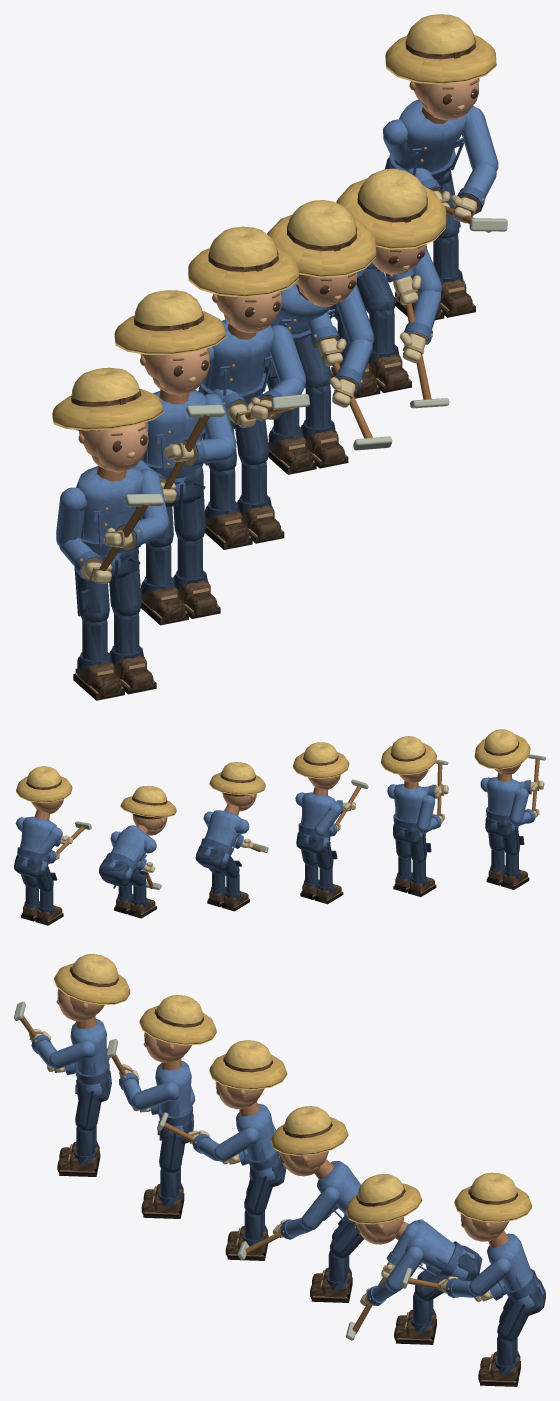
The model's file is ba-hoe-tq-after.glb.
The picture shows the model from 3 angles, top to bottom: view 1: azimuth 30°, elevation 25°; view 2: azimuth 150°, elevation 25°; view 3: azimuth 270°, elevation 25°; orthographic projection. The views are drawn at different scales.
Visible parts, largest first — view 1: strawHat (×6), denimJacketTorso (×5), leftShin (×6), head (×6), rightShin (×4), leftThigh (×5), leftUpperArm (×5), leftLowerArm (×4), rightUpperArm (×2), rightThigh; view 2: strawHat (×6), denimJacketTorso (×6), rightShin (×6), leftShin (×6), trouserHips (×6), rightUpperArm (×5), rightThigh (×5), head (×4); view 3: strawHat (×6), denimJacketTorso (×6), leftShin (×6), leftUpperArm (×6), head (×6), leftThigh (×5), trouserHips.
Part boxes in pixels (box(x1,y1,x2,y2)): strawHat (×6): box(52, 14, 496, 430); denimJacketTorso (×5): box(76, 99, 466, 570); leftShin (×6): box(109, 235, 475, 694); head (×6): box(76, 78, 479, 472); rightShin (×4): box(73, 407, 316, 700); leftThigh (×5): box(109, 269, 396, 616); leftUpperArm (×5): box(141, 106, 498, 530); leftLowerArm (×4): box(181, 164, 496, 467); rightUpperArm (×2): box(56, 119, 407, 545); rightThigh: box(74, 567, 109, 622); strawHat (×6): box(16, 729, 530, 817); denimJacketTorso (×6): box(17, 773, 520, 880); rightShin (×6): box(35, 853, 529, 925); leftShin (×6): box(21, 849, 505, 921); trouserHips (×6): box(14, 816, 518, 888); rightUpperArm (×5): box(36, 788, 528, 854); rightThigh (×5): box(35, 826, 524, 891); head (×4): box(31, 775, 340, 835); strawHat (×6): box(53, 954, 531, 1224); denimJacketTorso (×6): box(70, 1016, 543, 1310); leftShin (×6): box(57, 1127, 518, 1386); leftUpperArm (×6): box(49, 1040, 511, 1296); head (×6): box(56, 989, 509, 1244); leftThigh (×5): box(75, 1091, 528, 1341); trouserHips: box(457, 1245, 482, 1280).
Size of what is drawn, in the model's own units: 5.94 by 2.41 by 5.52.
